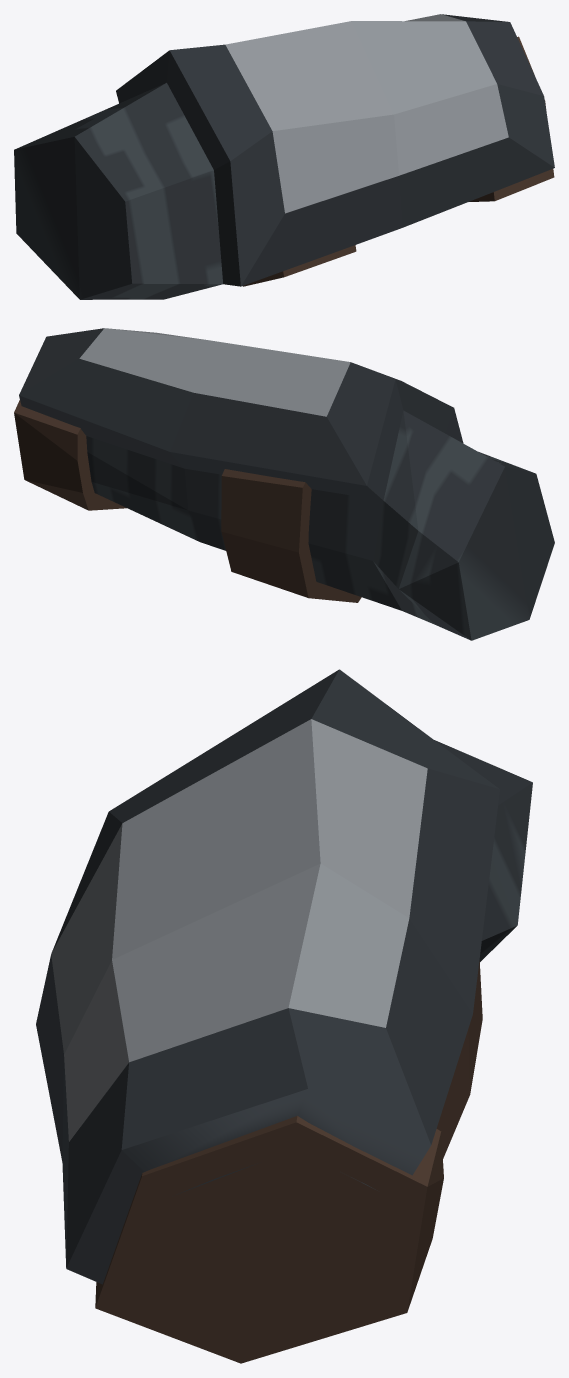
File: Chr_ArmLowerLeft_Male_04_Static.fbx
3 renders of one model, top to bottom at view 1: azimuth 30°, elevation 25°; view 2: azimuth 150°, elevation 25°; view 3: azimuth 270°, elevation 25°, orthographic. The views are drawn at different scales.
Parts seen in each view (by area): view 1: Chr_ArmLowerLeft_Male_04_Static; view 2: Chr_ArmLowerLeft_Male_04_Static; view 3: Chr_ArmLowerLeft_Male_04_Static.
Part boxes in pixels (left/top/right/bottom): Chr_ArmLowerLeft_Male_04_Static: left=14, top=14, right=554, bottom=299; Chr_ArmLowerLeft_Male_04_Static: left=14, top=328, right=554, bottom=640; Chr_ArmLowerLeft_Male_04_Static: left=36, top=669, right=532, bottom=1363.
Bounding box in the file's own units: 0.2912 × 0.1455 × 0.1391.
